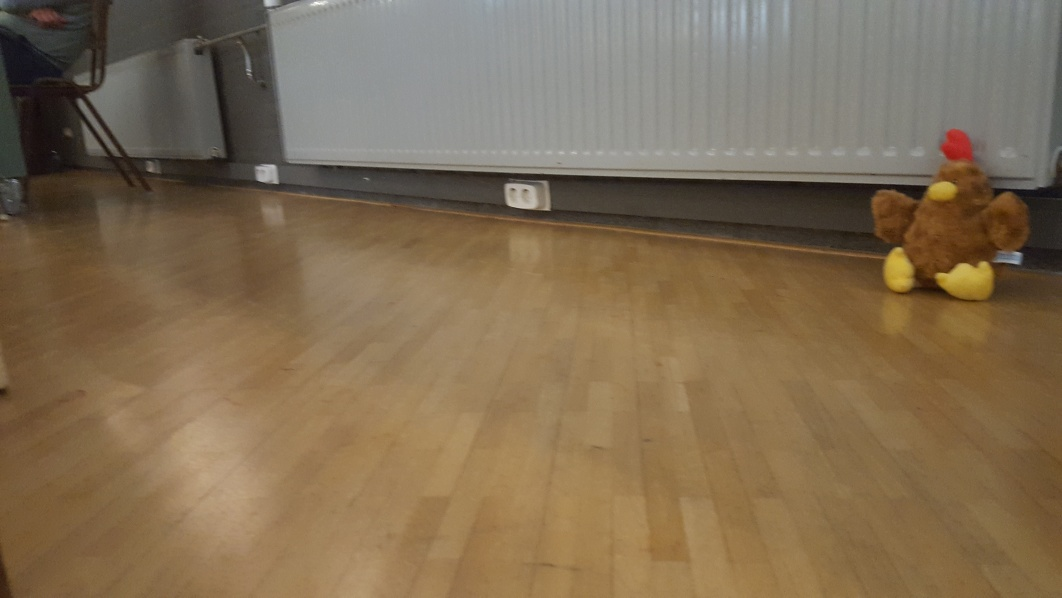chicken: (865, 126, 1029, 303)
